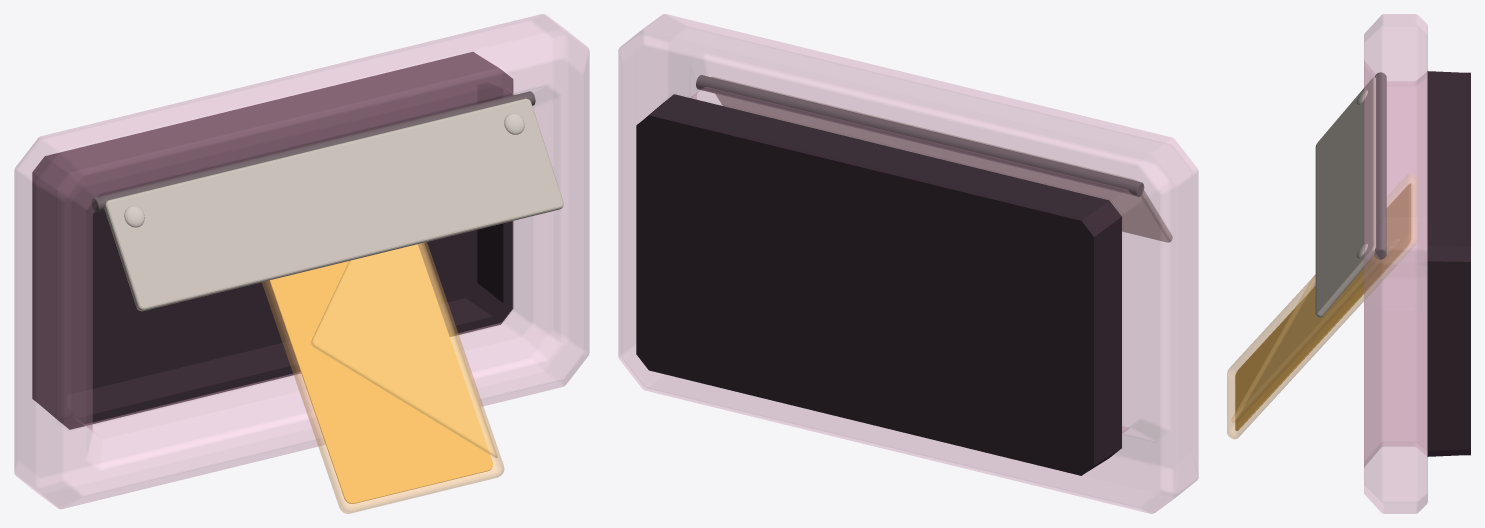
The model's file is eventbridge-target.glb.
3 renders of one model, left to right at view 1: azimuth 30°, elevation 25°; view 2: azimuth 150°, elevation 25°; view 3: azimuth 270°, elevation 25°, orthographic. The views are drawn at different scales.
Visible parts, largest first — view 1: Faceted raspberry mail slot bezel, Hinged nickel mail flap, Satin gold letter inside amber glass, Recessed receiver throat, Rear wall of receiver, Amber envelope - short edge entering, Left pointing triangular closure, Hinge axle; view 2: Rear wall of receiver, Faceted raspberry mail slot bezel, Recessed receiver throat, Hinge axle, Hinged nickel mail flap; view 3: Faceted raspberry mail slot bezel, Recessed receiver throat, Hinged nickel mail flap, Satin gold letter inside amber glass, Amber envelope - short edge entering, Left pointing triangular closure, Hinge axle, Rear wall of receiver.
Part boxes in pixels (x1=…): Faceted raspberry mail slot bezel: x1=14, y1=14, x2=589, y2=508; Hinged nickel mail flap: x1=104, y1=98, x2=563, y2=311; Satin gold letter inside amber glass: x1=269, y1=244, x2=492, y2=503; Recessed receiver throat: x1=35, y1=54, x2=513, y2=429; Rear wall of receiver: x1=32, y1=52, x2=477, y2=400; Amber envelope - short edge entering: x1=262, y1=242, x2=503, y2=513; Left pointing triangular closure: x1=311, y1=243, x2=497, y2=458; Hinge axle: x1=91, y1=91, x2=535, y2=211; Rear wall of receiver: x1=636, y1=113, x2=1096, y2=475; Faceted raspberry mail slot bezel: x1=618, y1=14, x2=1198, y2=513; Recessed receiver throat: x1=646, y1=94, x2=1121, y2=472; Hinge axle: x1=696, y1=75, x2=1144, y2=196; Hinged nickel mail flap: x1=711, y1=76, x2=1172, y2=242; Faceted raspberry mail slot bezel: x1=1364, y1=14, x2=1427, y2=513; Recessed receiver throat: x1=1427, y1=71, x2=1465, y2=456; Hinged nickel mail flap: x1=1315, y1=77, x2=1375, y2=317; Satin gold letter inside amber glass: x1=1235, y1=183, x2=1411, y2=430; Amber envelope - short edge entering: x1=1227, y1=173, x2=1417, y2=438; Left pointing triangular closure: x1=1231, y1=239, x2=1399, y2=422; Hinge axle: x1=1374, y1=72, x2=1386, y2=259; Rear wall of receiver: x1=1466, y1=72, x2=1470, y2=455.
Bounding box in the file's own units: 4.44 × 2.74 × 2.04.
